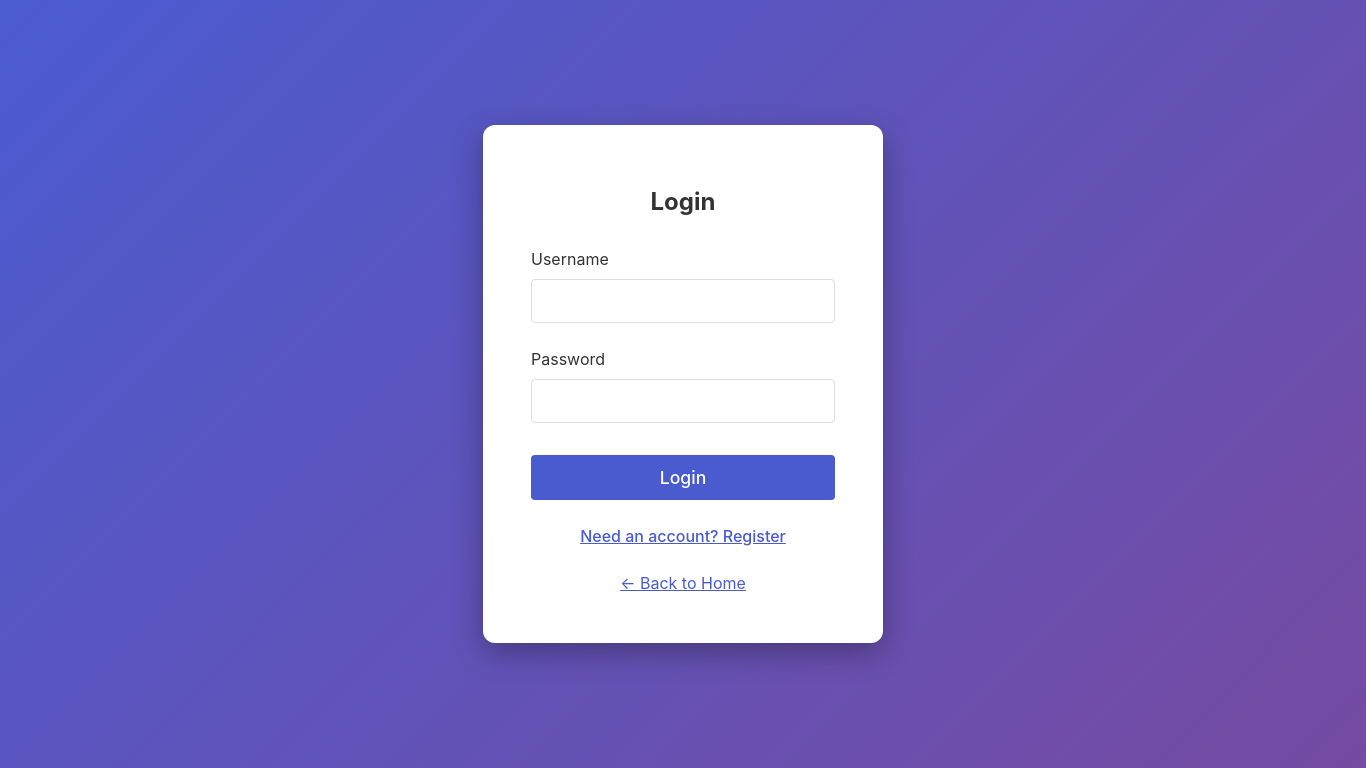
Test case: AuthPage › does not send a password that is too short
Step 1. Click the button "Need an account? Register" → [683, 536], box [561,516,805,555]
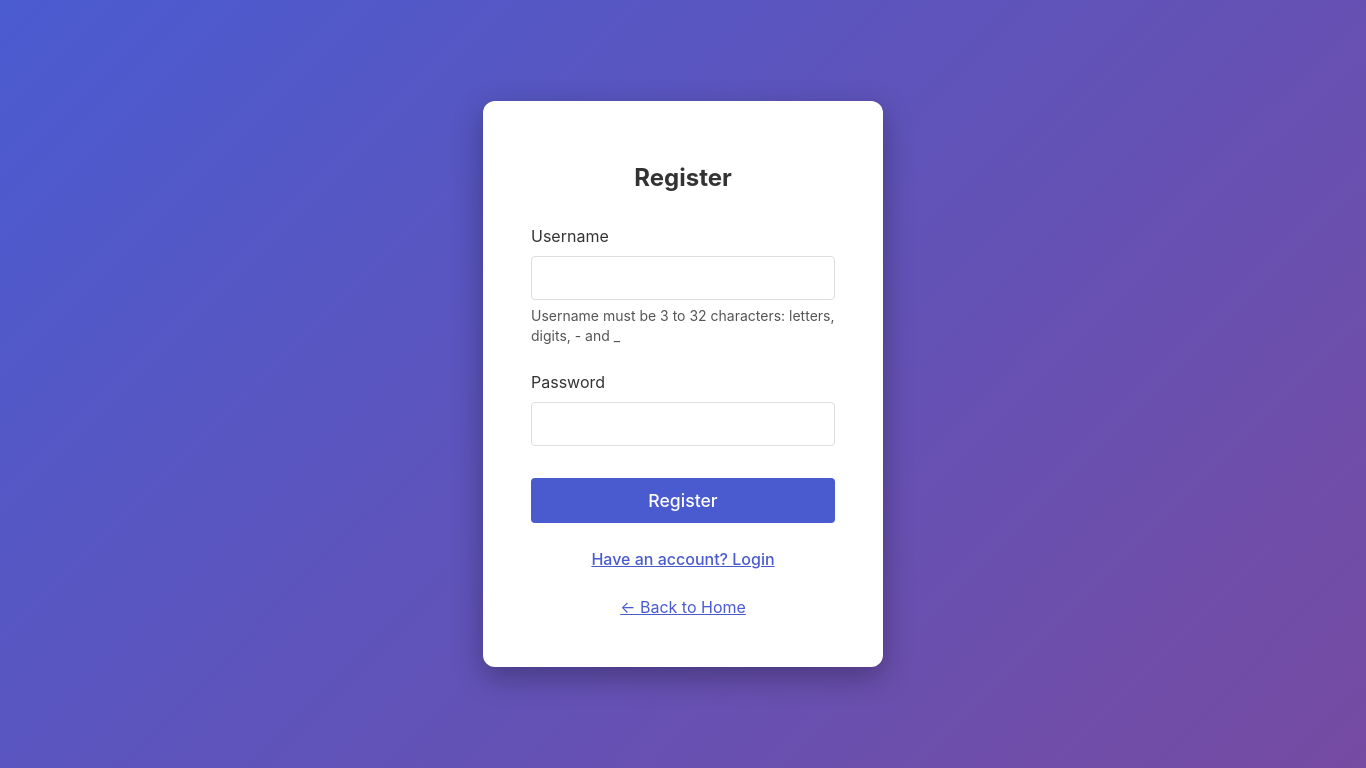
Step 2. Type "casey" into the field labelled "Username" → [683, 278], box [531,256,835,300]
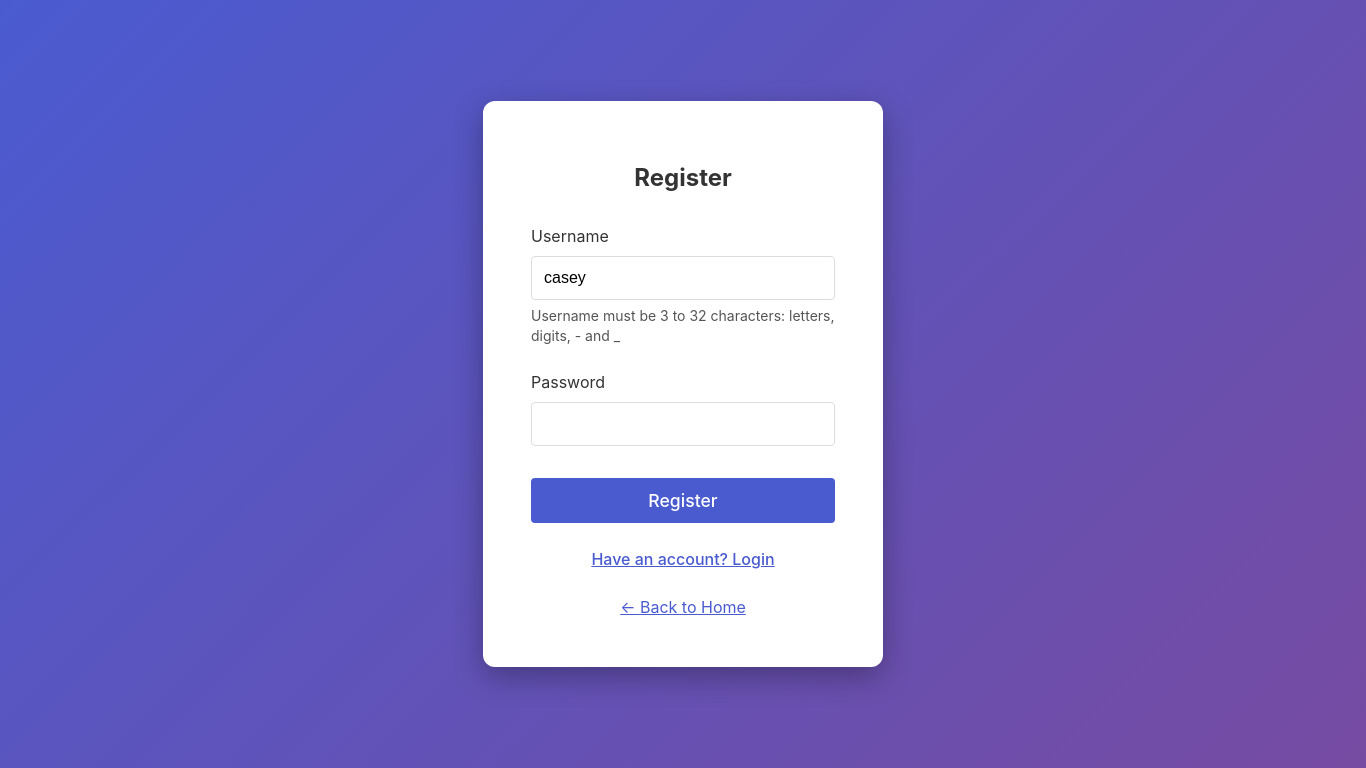
Step 3. Type "short" into the password field labelled "Password" → [683, 424], box [531,402,835,446]
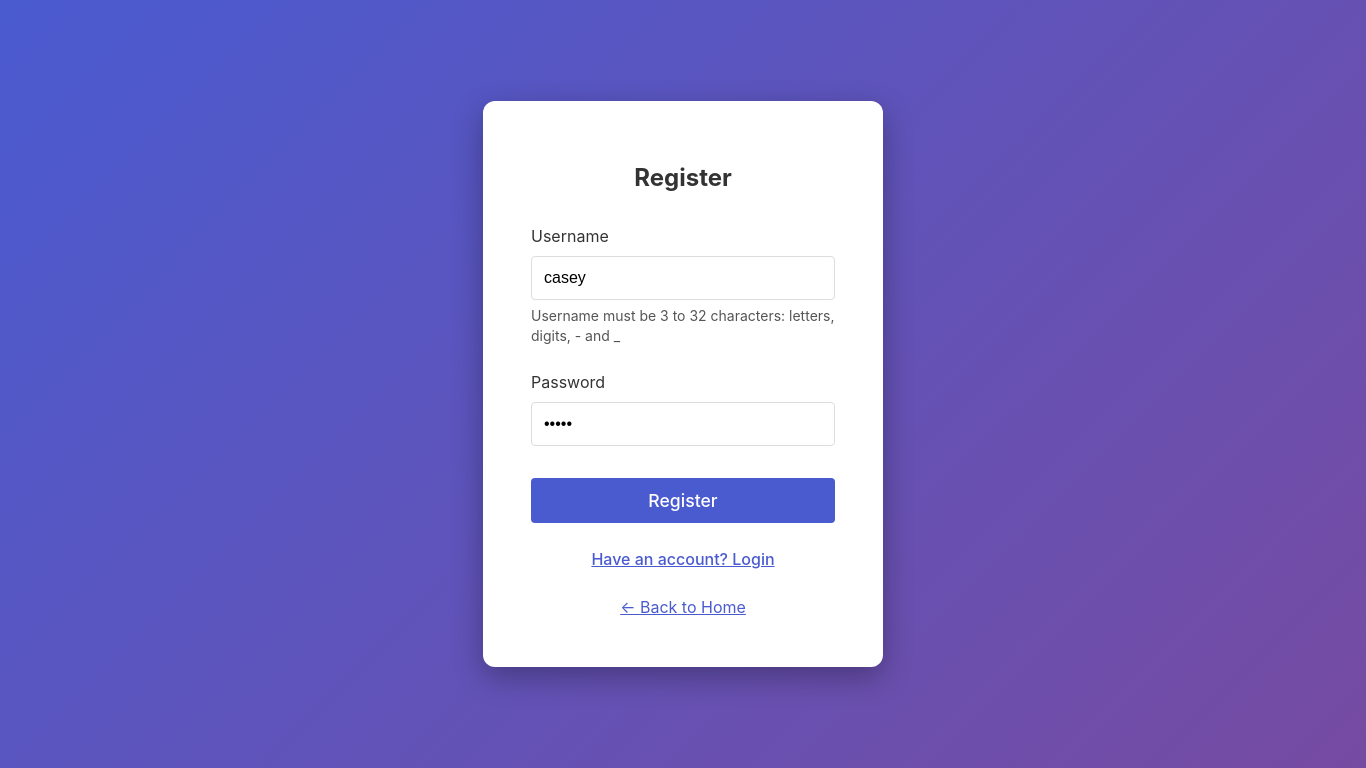
Step 4. Click the button "Register" → [683, 501], box [531,478,835,523]
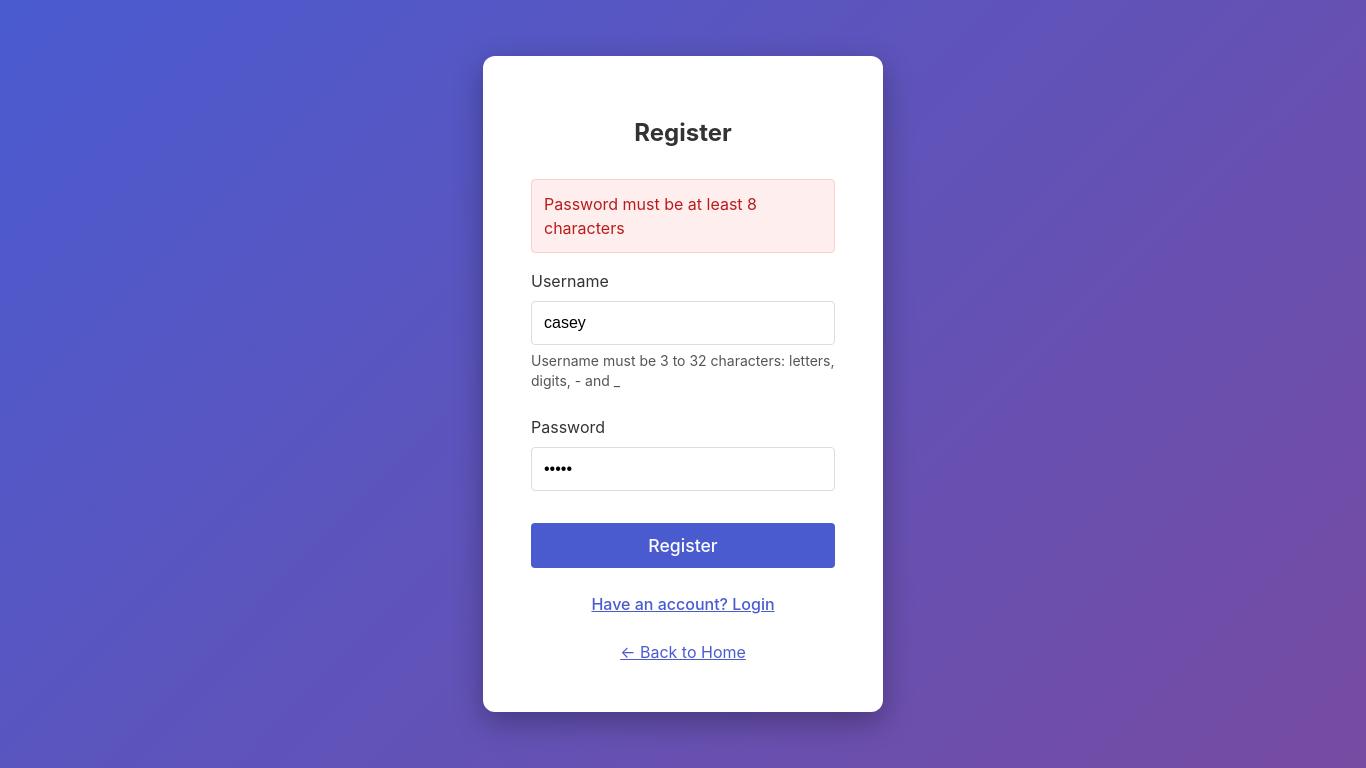
expect the message reads "Password must be at least 8 characters": met, box [544,194,757,238]
